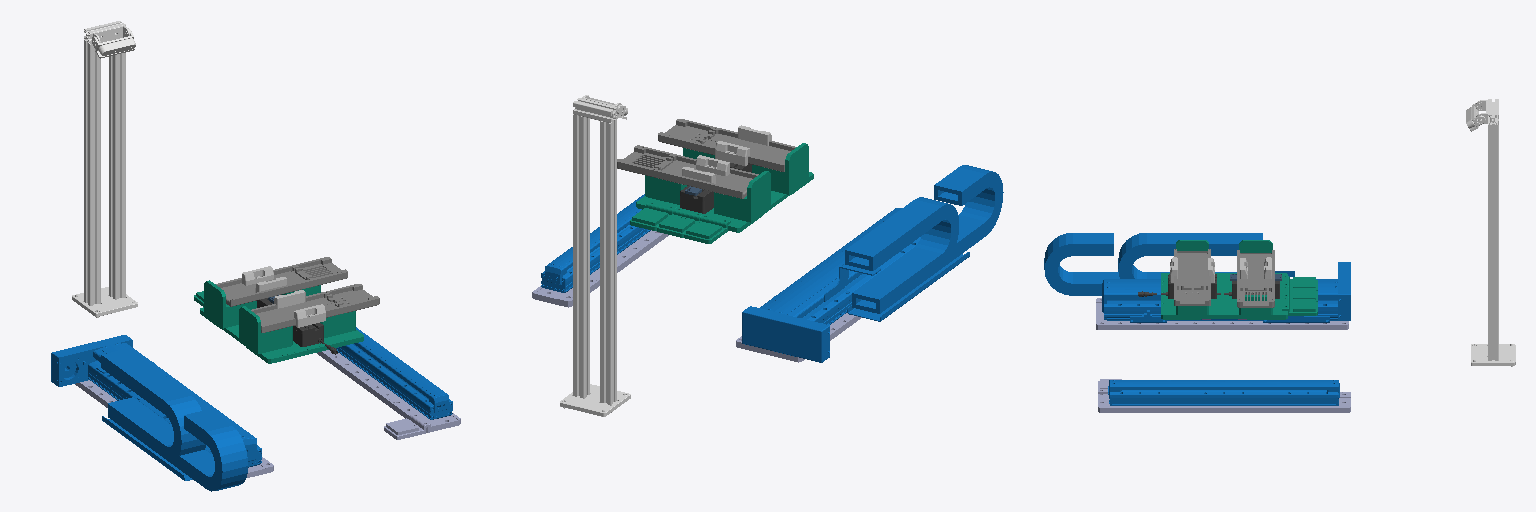
The robot description file, URDF, robot "base_ARF":
<?xml version="1.0" encoding="UTF-8"?>
<robot name="base_ARF">
	<link name="world" />
	<link name="base_ARF">
		<visual>
			<geometry>
				<mesh filename="package://keti_workcell_description/meshes/base1.STL" />
			</geometry>
			<material name="">
				<color rgba="0.89 0.91 0.93 1" />
			</material>
		</visual>
	</link>
	<link name="ARF_jig">
		<visual>
			<geometry>
				<mesh filename="package://keti_workcell_description/meshes/ARF_jig.STL" />
			</geometry>
			<material name="">
				<color rgba="0.69 0.71 0.83 1" />
			</material>
		</visual>
	</link>
	<link name="ARF_slider_base1">
		<visual>
			<geometry>
				<mesh filename="package://keti_workcell_description/meshes/ARF_slider_base1.STL" />
			</geometry>
			<material name="">
				<color rgba="0.1 0.5 0.8 1" />
			</material>
		</visual>
	</link>
	<link name="ARF_slider1">
		<visual>
			<geometry>
				<mesh filename="package://keti_workcell_description/meshes/ARF_slider1.STL" />
			</geometry>
			<material name="">
				<color rgba="0.7 0.5 0.3 1" />
			</material>
		</visual>
	</link>
	<link name="s4_dummy" />
	<link name="ARF_slider2">
		<visual>
			<geometry>
				<mesh filename="package://keti_workcell_description/meshes/ARF_slider2.STL" />
			</geometry>
			<material name="">
				<color rgba="0.5 0.4 0.6 1" />
			</material>
		</visual>
	</link>
	<link name="ARF_jig2">
		<visual>
			<geometry>
				<mesh filename="package://keti_workcell_description/meshes/ARF_jig2.STL" />
			</geometry>
			<material name="">
				<color rgba="0.1 0.6 0.5 1" />
			</material>
		</visual>
	</link>
	<link name="obj1">
		<visual>
			<geometry>
				<mesh filename="package://keti_workcell_description/meshes/obj1.STL" />
			</geometry>
			<material name="">
				<color rgba="0.57 0.57 0.57 1" />
			</material>
		</visual>
	</link>
	<link name="obj2">
		<visual>
			<geometry>
				<mesh filename="package://keti_workcell_description/meshes/obj2.STL" />
			</geometry>
			<material name="">
				<color rgba="0.57 0.57 0.57 1" />
			</material>
		</visual>
	</link>
	<link name="zimmer1">
		<visual>
			<geometry>
				<mesh filename="package://keti_workcell_description/meshes/zimmer.STL" />
			</geometry>
			<material name="">
				<color rgba="0.3 0.3 0.3 1" />
			</material>
		</visual>
	</link>
	<link name="zimmer2">
		<visual>
			<geometry>
				<mesh filename="package://keti_workcell_description/meshes/zimmer.STL" />
			</geometry>
			<material name="">
				<color rgba="0.3 0.3 0.3 1" />
			</material>
		</visual>
	</link>
	<link name="tooltip11">
		<visual>
			<geometry>
				<mesh filename="package://keti_workcell_description/meshes/tooltip.STL" />
			</geometry>
			<material name="">
				<color rgba="0.8 0.8 0.8 1" />
			</material>
		</visual>
	</link>
	<link name="tooltip12">
		<visual>
			<geometry>
				<mesh filename="package://keti_workcell_description/meshes/tooltip.STL" />
			</geometry>
			<material name="">
				<color rgba="0.8 0.8 0.8 1" />
			</material>
		</visual>
	</link>
	<link name="tooltip21">
		<visual>
			<geometry>
				<mesh filename="package://keti_workcell_description/meshes/tooltip.STL" />
			</geometry>
			<material name="">
				<color rgba="0.8 0.8 0.8 1" />
			</material>
		</visual>
	</link>
	<link name="tooltip22">
		<visual>
			<geometry>
				<mesh filename="package://keti_workcell_description/meshes/tooltip.STL" />
			</geometry>
			<material name="">
				<color rgba="0.8 0.8 0.8 1" />
			</material>
		</visual>
	</link>
	<link name="dockingsystem">
		<visual>
			<geometry>
				<mesh filename="package://keti_workcell_description/meshes/docking.STL" />
			</geometry>
			<material name="">
				<color rgba="0.3 0.3 0.3 1" />
			</material>
		</visual>
	</link>
	<link name="cam_jig">
		<visual>
			<geometry>
				<mesh filename="package://keti_workcell_description/meshes/cam_jig.STL" />
			</geometry>
			<material name="">
				<color rgba="0.9 0.9 0.9 1" />
			</material>
		</visual>
	</link>
	<link name="grip_adapter11">
		<visual>
			<geometry>
				<mesh filename="package://keti_workcell_description/meshes/grip_adapter.STL" />
			</geometry>
			<material name="">
				<color rgba="0.3 0.4 0.5 1" />
			</material>
		</visual>
	</link>
	<link name="grip_adapter12">
		<visual>
			<geometry>
				<mesh filename="package://keti_workcell_description/meshes/grip_adapter.STL" />
			</geometry>
			<material name="">
				<color rgba="0.3 0.4 0.5 1" />
			</material>
		</visual>
	</link>
	<link name="grip_adapter21">
		<visual>
			<geometry>
				<mesh filename="package://keti_workcell_description/meshes/grip_adapter.STL" />
			</geometry>
			<material name="">
				<color rgba="0.3 0.4 0.5 1" />
			</material>
		</visual>
	</link>
	<link name="grip_adapter22">
		<visual>
			<geometry>
				<mesh filename="package://keti_workcell_description/meshes/grip_adapter.STL" />
			</geometry>
			<material name="">
				<color rgba="0.3 0.4 0.5 1" />
			</material>
		</visual>
	</link>
	<joint name="base_ARF_fixed" type="fixed">
		<origin xyz="-0.00026 0.80842 0" rpy="0 0 -1.5709" />
		<parent link="world" />
		<child link="base_ARF" />
	</joint>
	<joint name="ARF_jig_fixed" type="fixed">
		<origin xyz="-0.02392 0.03311 0.8335" rpy="0 0 -1.5709" />
		<parent link="base_ARF" />
		<child link="ARF_jig" />
	</joint>
	<joint name="slider_base1_fixed" type="fixed">
		<origin xyz="0.29294 -0.31 0.05514" rpy="-1.5709 0 0" />
		<parent link="ARF_jig" />
		<child link="ARF_slider_base1" />
	</joint>
	<joint name="s3" type="prismatic">
		<origin xyz="-0.03044 -0.02835 0.0" rpy="0 0 0" />
		<parent link="ARF_slider_base1" />
		<child link="ARF_slider1" />
		<axis xyz="0 0 1" />
		<limit lower="0.045" upper="0.445" effort="100" velocity="10" />
	</joint>
	<joint name="s4_dummy_fixed" type="fixed">
		<origin xyz="-0.569 -0.06672 0.06" rpy="0 1.5709 0" />
		<parent link="ARF_slider1" />
		<child link="s4_dummy" />
	</joint>
	<joint name="s4" type="prismatic">
		<origin xyz="0 -0.03128 0" rpy="0 0 0" />
		<parent link="s4_dummy" />
		<child link="ARF_slider2" />
		<axis xyz="0 0 1" />
		<limit lower="0.055" upper="0.355" effort="100" velocity="10" />
	</joint>
	<joint name="ARF_slider2_jig2" type="fixed">
		<origin xyz="0 -0.01652 0.06" rpy="1.5709 -1.5709 0" />
		<parent link="ARF_slider2" />
		<child link="ARF_jig2" />
	</joint>
	<joint name="ARF_jig2_to_obj1" type="fixed">
		<origin xyz="-0.02828 0.085 0.073" rpy="0 0 -1.5709" />
		<parent link="ARF_jig2" />
		<child link="obj1" />
	</joint>
	<joint name="ARF_jig2_to_obj2" type="fixed">
		<origin xyz="-0.02828 -0.085 0.073" rpy="0 0 -1.5709" />
		<parent link="ARF_jig2" />
		<child link="obj2" />
	</joint>
	<joint name="ARF_jig2_to_zimmer1" type="fixed">
		<origin xyz="0 0.085 0.0552" rpy="1.5709 0 0" />
		<parent link="ARF_jig2" />
		<child link="zimmer1" />
	</joint>
	<joint name="ARF_jig2_to_zimmer2" type="fixed">
		<origin xyz="0 -0.085 0.0552" rpy="1.5709 0 0" />
		<parent link="ARF_jig2" />
		<child link="zimmer2" />
	</joint>
	<joint name="s5" type="prismatic">
		<origin xyz="-0.00037 0.00443 -0.041" rpy="0 3.1416 0" />
		<parent link="zimmer1" />
		<child link="grip_adapter11" />
		<axis xyz="0 0 1" />
		<limit lower="0.0" upper="0.04" effort="100" velocity="10" />
	</joint>
	<joint name="s6" type="prismatic">
		<origin xyz="-0.00037 0.00443 0.041" rpy="0 0 0" />
		<parent link="zimmer1" />
		<child link="grip_adapter12" />
		<axis xyz="0 0 1" />
		<limit lower="0.0" upper="0.04" effort="100" velocity="10" />
	</joint>
	<joint name="s7" type="prismatic">
		<origin xyz="-0.00037 0.00443 -0.041" rpy="0 0 0" />
		<parent link="zimmer2" />
		<child link="grip_adapter21" />
		<axis xyz="0 0 1" />
		<limit lower="0.0" upper="0.04" effort="100" velocity="10" />
	</joint>
	<joint name="s8" type="prismatic">
		<origin xyz="-0.00037 0.00443 0.041" rpy="0 3.1416 0" />
		<parent link="zimmer2" />
		<child link="grip_adapter22" />
		<axis xyz="0 0 1" />
		<limit lower="0.0" upper="0.04" effort="100" velocity="10" />
	</joint>
	<joint name="dockingsystem_fixed" type="fixed">
		<origin xyz="-0.79918 -0.00336 -0.011" rpy="0 0 1.5709" />
		<parent link="base_ARF" />
		<child link="dockingsystem" />
	</joint>
	<joint name="cam_jig_fixed" type="fixed">
		<origin xyz="-0.00103 -0.04935 0.831" rpy="0 0 -1.5709" />
		<parent link="dockingsystem" />
		<child link="cam_jig" />
	</joint>
	<joint name="grip_tooltip11" type="fixed">
		<origin xyz="-0.00037 0.01437 0.019" rpy="0 0 0" />
		<parent link="grip_adapter11" />
		<child link="tooltip11" />
	</joint>
	<joint name="grip_tooltip12" type="fixed">
		<origin xyz="-0.00037 0.01437 0.019" rpy="0 0 0" />
		<parent link="grip_adapter12" />
		<child link="tooltip12" />
	</joint>
	<joint name="grip_tooltip21" type="fixed">
		<origin xyz="-0.00037 0.01437 0.019" rpy="0 0 0" />
		<parent link="grip_adapter21" />
		<child link="tooltip21" />
	</joint>
	<joint name="grip_tooltip22" type="fixed">
		<origin xyz="-0.00037 0.01437 0.019" rpy="0 0 0" />
		<parent link="grip_adapter22" />
		<child link="tooltip22" />
	</joint>
</robot>

--- Render facts (derived) ---
Views: 3 orthographic renders of the robot side by side, from view 1: azimuth 30°, elevation 25°; view 2: azimuth 150°, elevation 25°; view 3: azimuth 270°, elevation 25°.
Robot: base_ARF — 22 links, 21 joints (6 prismatic, 15 fixed); root link world; default pose: all joints at 0 but 2 set to mid-range because 0 is outside their limits (s3 = 0.245, s4 = 0.205).
Links seen in each view (by area): view 1: ARF_slider_base1, cam_jig, ARF_jig2, ARF_jig, obj2, obj1, zimmer1, tooltip11; view 2: ARF_slider_base1, cam_jig, ARF_jig2, obj2, obj1, ARF_jig, zimmer2, tooltip12; view 3: ARF_slider_base1, ARF_jig2, ARF_jig, cam_jig, obj1, obj2.
Link boxes in pixels (x1=…): ARF_slider_base1: x1=51, y1=327, x2=452, y2=491; cam_jig: x1=72, y1=21, x2=137, y2=317; ARF_jig2: x1=194, y1=280, x2=363, y2=363; ARF_jig: x1=75, y1=350, x2=460, y2=477; obj2: x1=216, y1=257, x2=347, y2=306; obj1: x1=251, y1=284, x2=379, y2=332; zimmer1: x1=293, y1=323, x2=337, y2=354; tooltip11: x1=294, y1=304, x2=325, y2=327; ARF_slider_base1: x1=541, y1=165, x2=1003, y2=362; cam_jig: x1=560, y1=95, x2=630, y2=416; ARF_jig2: x1=630, y1=143, x2=813, y2=243; obj2: x1=617, y1=145, x2=758, y2=198; obj1: x1=658, y1=119, x2=795, y2=171; ARF_jig: x1=532, y1=230, x2=861, y2=362; zimmer2: x1=680, y1=186, x2=713, y2=213; tooltip12: x1=715, y1=141, x2=749, y2=165; ARF_slider_base1: x1=1044, y1=233, x2=1350, y2=405; ARF_jig2: x1=1161, y1=240, x2=1317, y2=319; ARF_jig: x1=1096, y1=298, x2=1350, y2=412; cam_jig: x1=1466, y1=99, x2=1515, y2=366; obj1: x1=1174, y1=249, x2=1210, y2=305; obj2: x1=1237, y1=250, x2=1274, y2=307.
Size in the robot's own frame: 0.7606 by 1.26 by 0.744 metres.
17 mesh visuals loaded from 13 distinct referenced files (10 binary STL); not drawn: 3 (reference not matched to a file when rendering).
